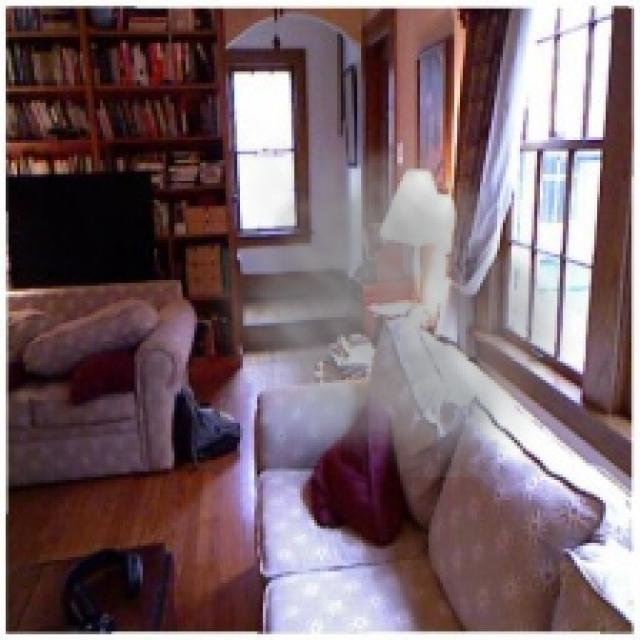Smoke: (197, 109, 586, 478)
